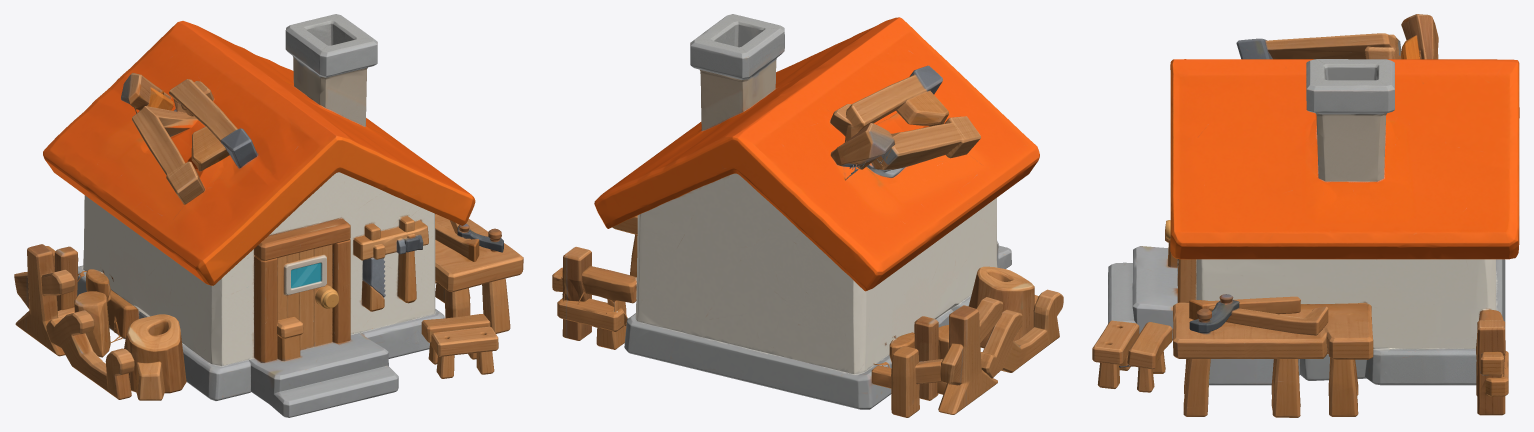
The model's file is workshop.glb.
3 renders of one model, left to right at view 1: azimuth 30°, elevation 25°; view 2: azimuth 150°, elevation 25°; view 3: azimuth 270°, elevation 25°, orthographic. The views are drawn at different scales.
Size of the model in its own units: 1.9 by 1.28 by 1.71.
1 material, 1 textured.
